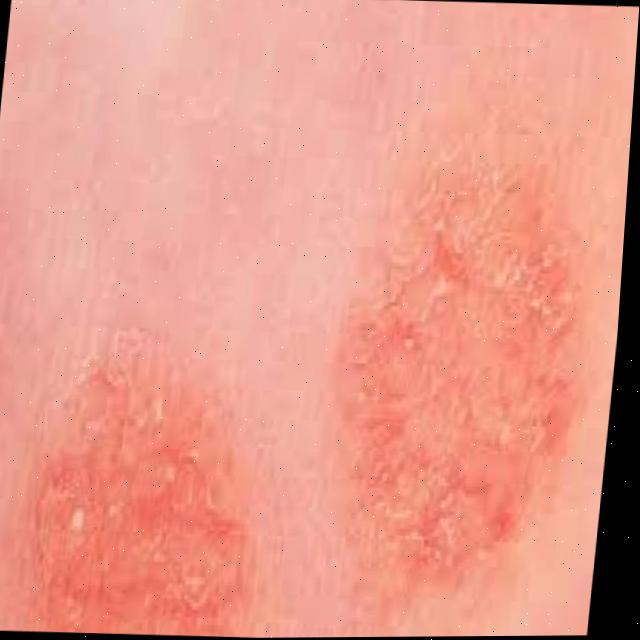Eczema: (302, 165, 616, 586), (1, 326, 280, 639)
